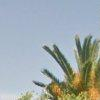Palm tree: (33, 37, 100, 100)
